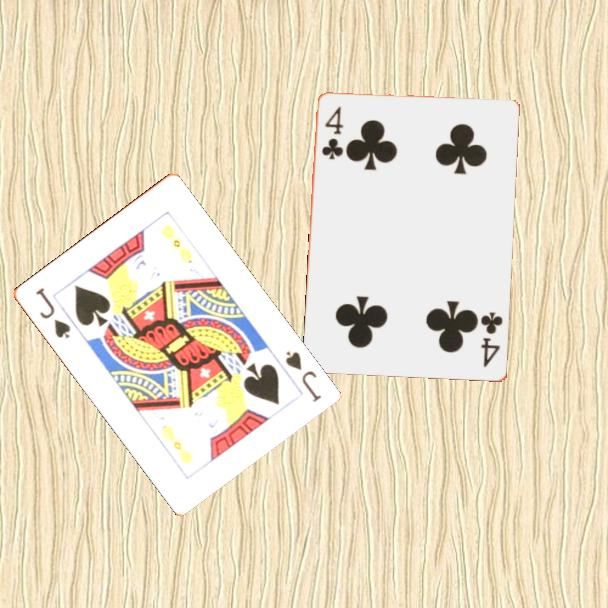c04: (477, 309, 506, 370), (318, 103, 346, 163)
s11: (281, 347, 324, 405), (31, 284, 73, 341)
